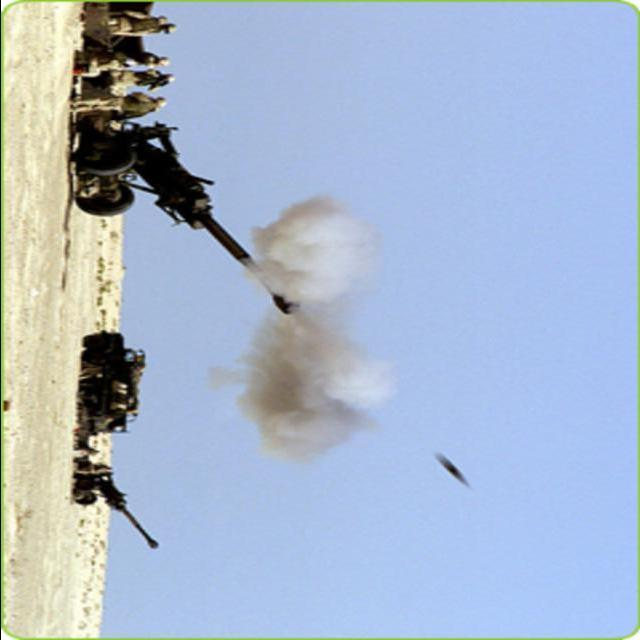missile: (435, 453, 475, 491)
